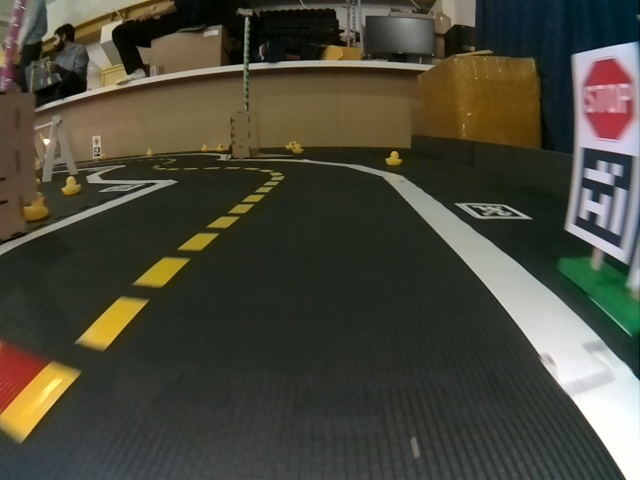Duckie: (23, 196, 48, 219), (61, 176, 81, 195), (386, 151, 401, 165), (293, 145, 304, 154), (218, 144, 225, 153), (200, 144, 209, 151), (287, 141, 294, 149)
QR code: (573, 147, 635, 250), (458, 203, 531, 218), (99, 183, 145, 193)
Stop sign: (581, 60, 635, 138)
